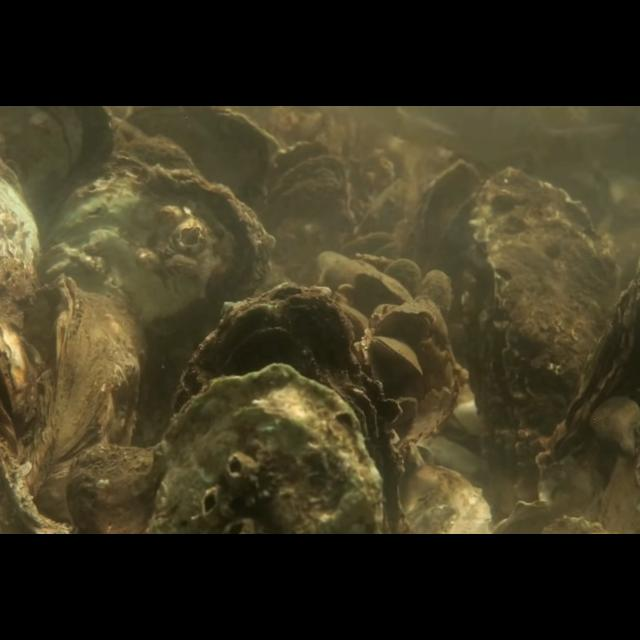Oyster-Closed: (45, 162, 274, 440), (172, 282, 402, 534), (456, 165, 614, 462), (144, 363, 383, 535), (532, 258, 640, 502), (369, 335, 423, 377), (378, 308, 436, 340)
Oyster-Indeterminate: (28, 274, 142, 534), (404, 158, 484, 312), (353, 268, 413, 304), (382, 257, 422, 305), (420, 268, 452, 320)
Oyster-Open: (254, 139, 350, 281)
